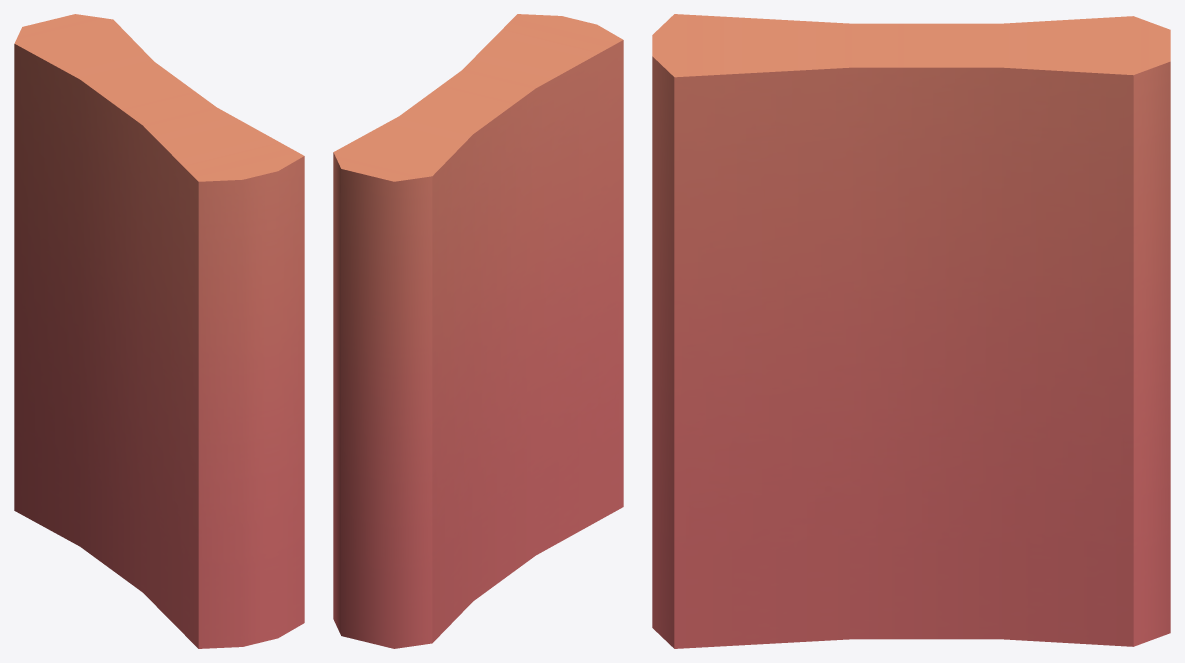
File: SM_Arena_Door_02.fbx
3 renders of one model, left to right at view 1: azimuth 30°, elevation 25°; view 2: azimuth 150°, elevation 25°; view 3: azimuth 270°, elevation 25°, orthographic. The views are drawn at different scales.
Visible parts, largest first — view 1: SM_Arena_Door_02; view 2: SM_Arena_Door_02; view 3: SM_Arena_Door_02.
Boxes of the visible parts, <box> form: SM_Arena_Door_02: <box>14,14,304,648</box>; SM_Arena_Door_02: <box>333,14,623,648</box>; SM_Arena_Door_02: <box>652,14,1170,648</box>.
Size of the model in its own units: 27.78 by 117 by 96.1.
1 material, 1 textured.
